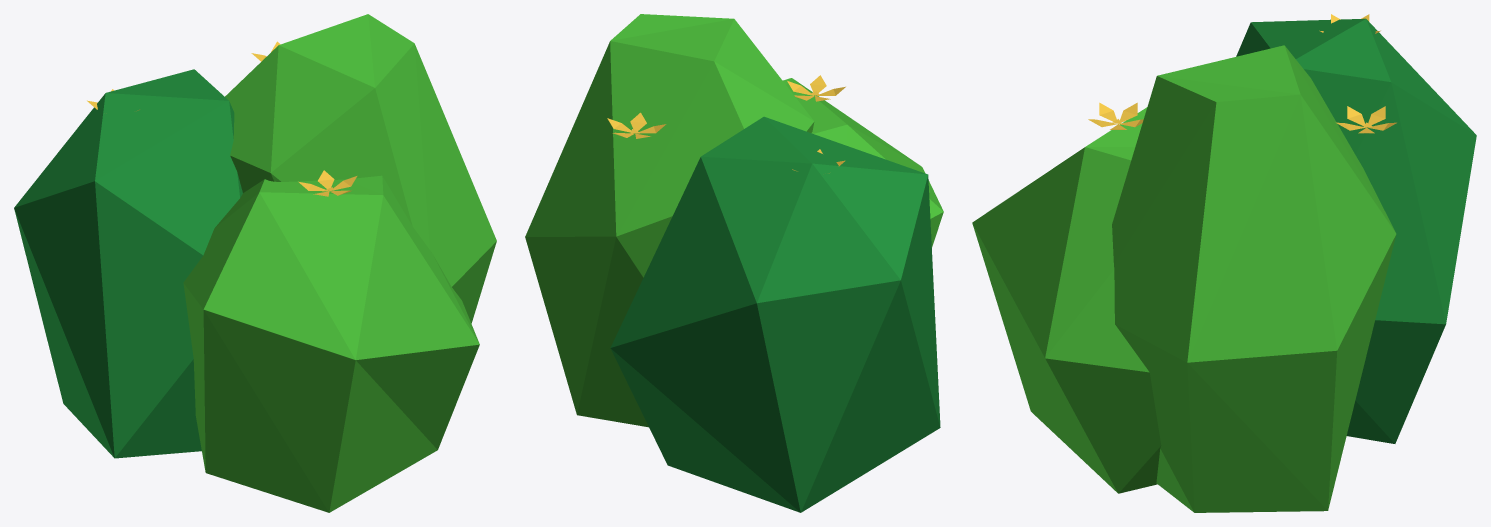
File: bush_round_b.fbx
The picture shows the model from 3 angles, left to right: view 1: azimuth 30°, elevation 25°; view 2: azimuth 150°, elevation 25°; view 3: azimuth 270°, elevation 25°; orthographic projection. The views are drawn at different scales.
Visible parts, largest first — view 1: bush_round_b; view 2: bush_round_b; view 3: bush_round_b.
Part boxes in pixels (bbox=[...]): bush_round_b: bbox=[14, 14, 496, 512]; bush_round_b: bbox=[525, 14, 943, 512]; bush_round_b: bbox=[972, 14, 1476, 512].
Size of the model in its own units: 1.8 by 1.6 by 1.8.
